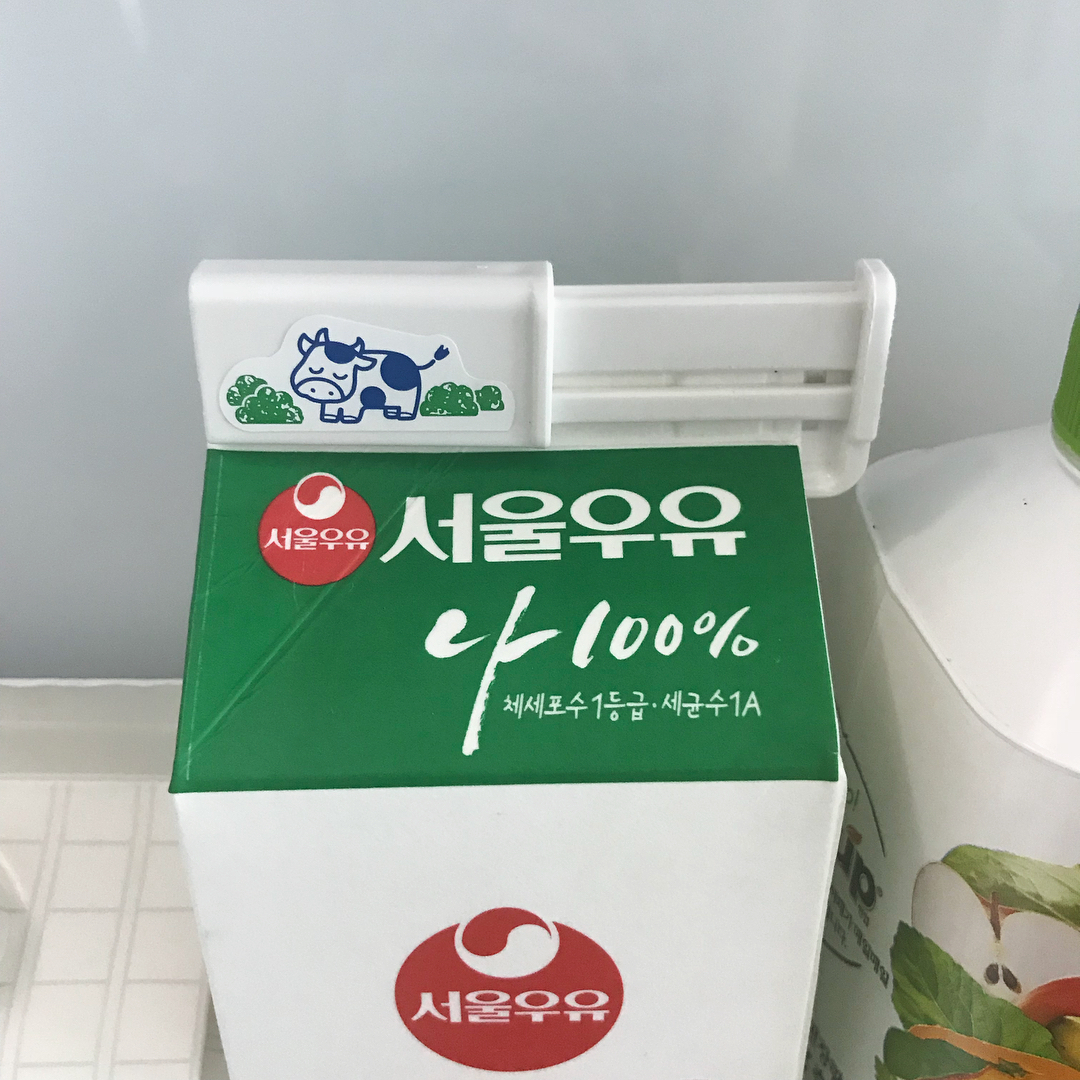milk: (171, 255, 845, 1080)
